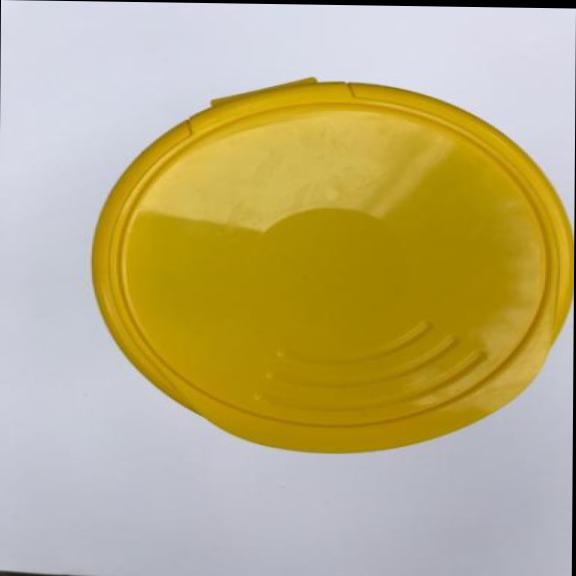Plastik: (78, 68, 576, 461)
